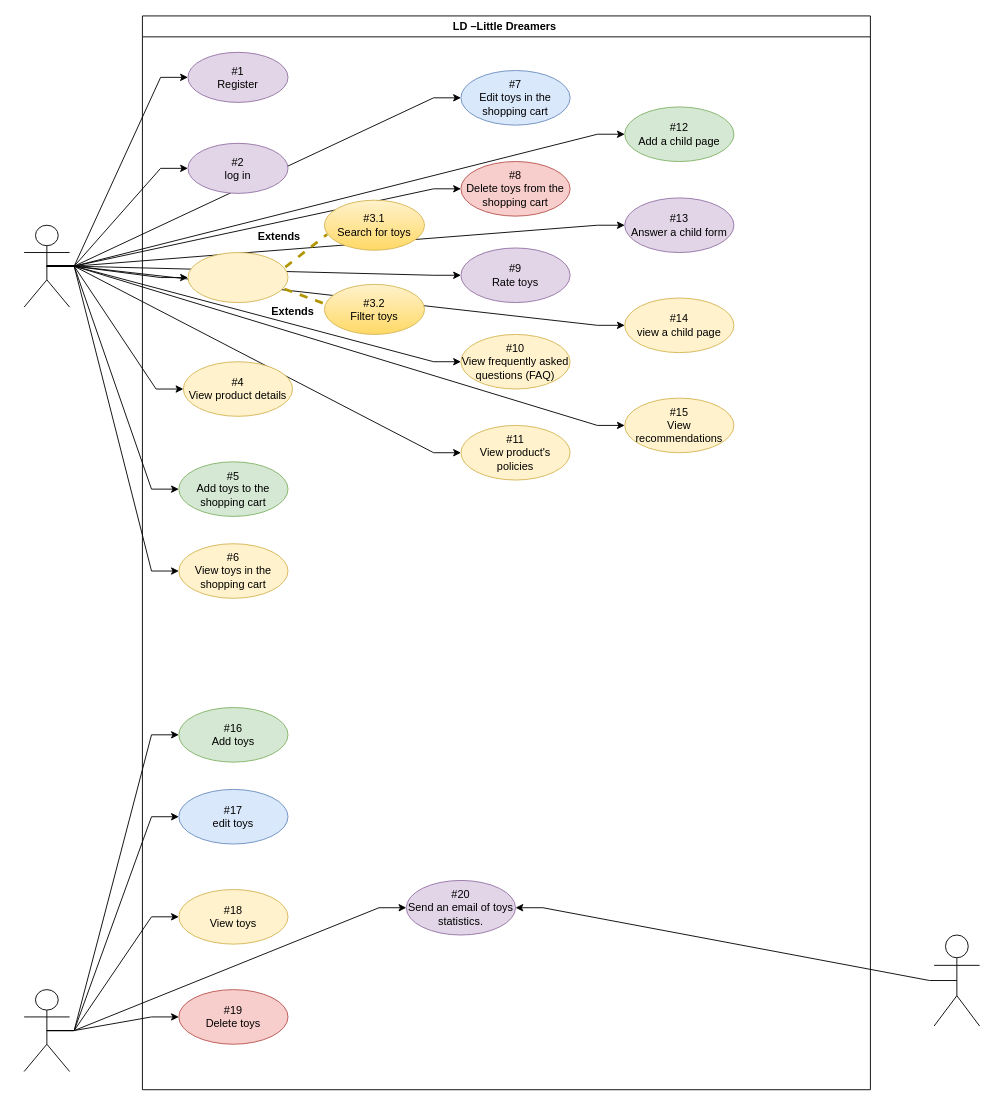
The diagram is 999 pixels wide and 1107 high, and some of its shapes have lost their labels. Here are the shapes that lost their labels. From the top down, the centre of each, then its label:
At pixel 46 265: "User(Parent)".
At pixel 237 277: "#3 Browse toys".
At pixel 956 980: "LD System".
At pixel 46 1030: "Store owner".
